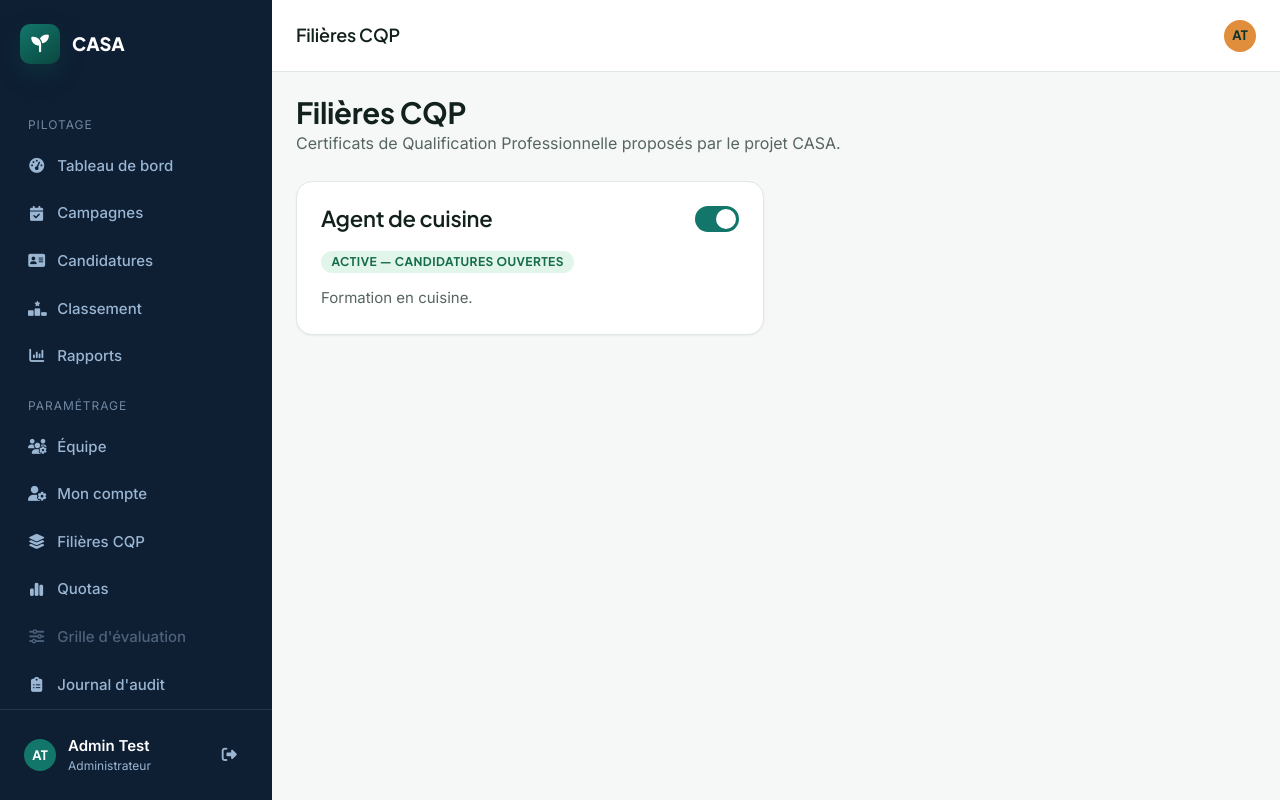
Test: Filieres — réutilise GET /api/filieres (public), toggle réel › bascule le switch -> PATCH /admin/filieres/{id}, le badge se met à jour depuis la réponse
The width and height of the screenshot is (1280, 800).
Expected: the heading "Agent de cuisine" is shown, [321,206,492,232]
Click the checkbox named "désactiver agent de cuisine": point(717, 219) [695,206,739,232]
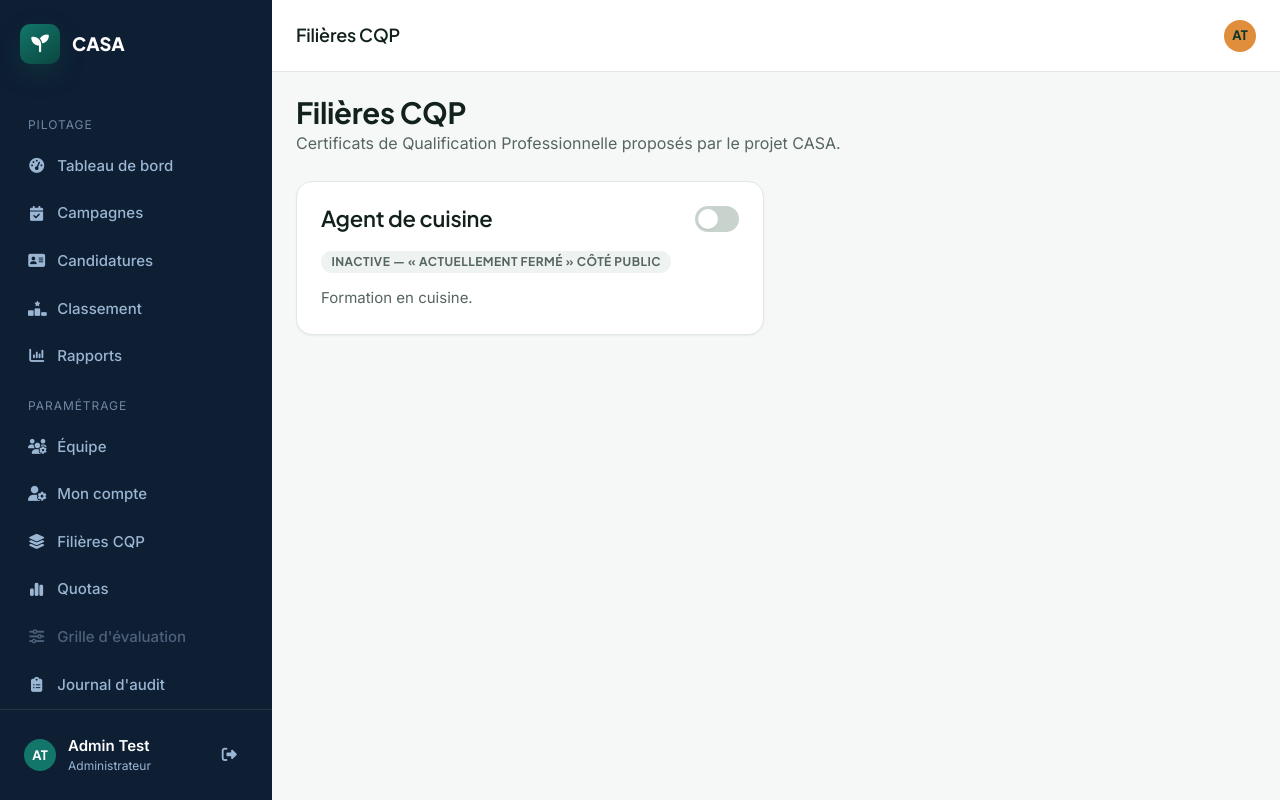
Now the text "Inactive — « Actuellement fermé » côté public" is shown, box [321,251,672,273]
